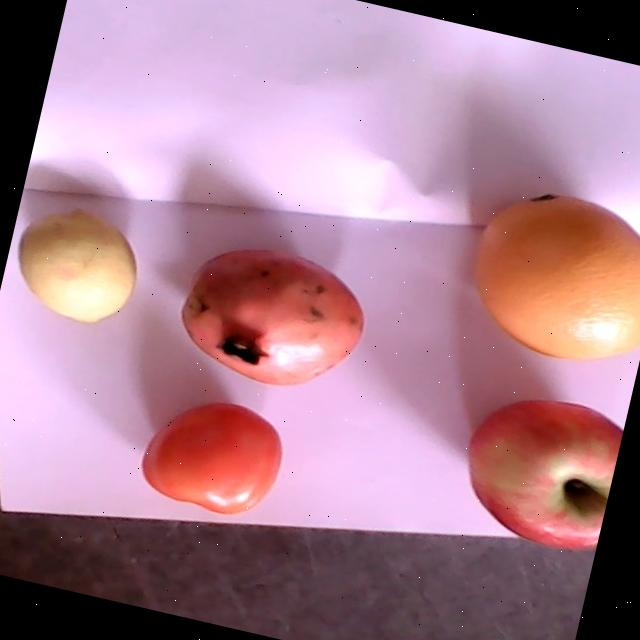apple: (468, 398, 622, 551)
lemon: (18, 208, 134, 326)
orange: (475, 192, 640, 361)
pomegranate: (182, 249, 363, 386)
tomato: (142, 402, 279, 513)
